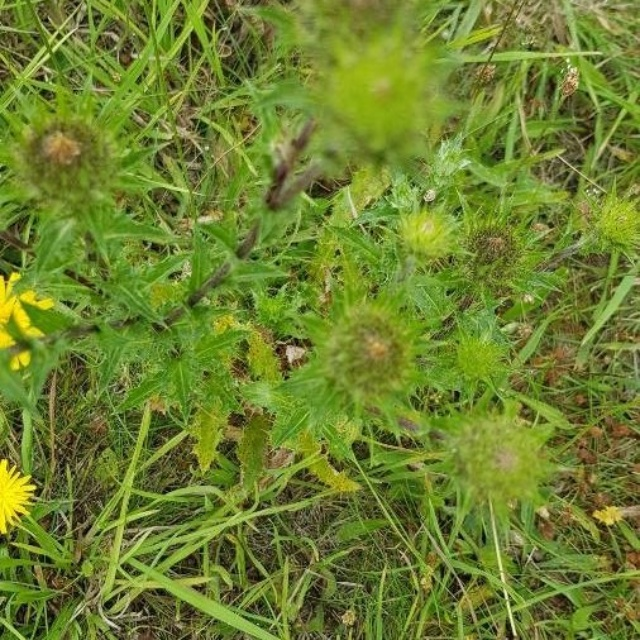obstacle: (59, 169, 554, 530)
